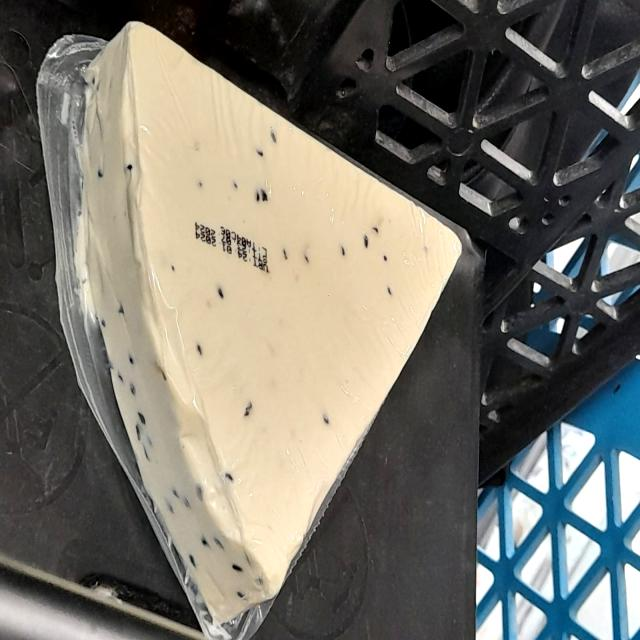cheese: (104, 56, 457, 610)
